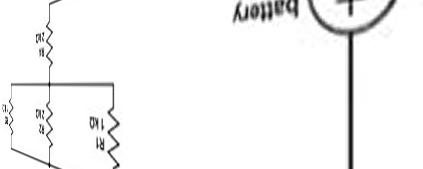resistor: (103, 93, 136, 163), (41, 13, 61, 65), (44, 93, 61, 145)
